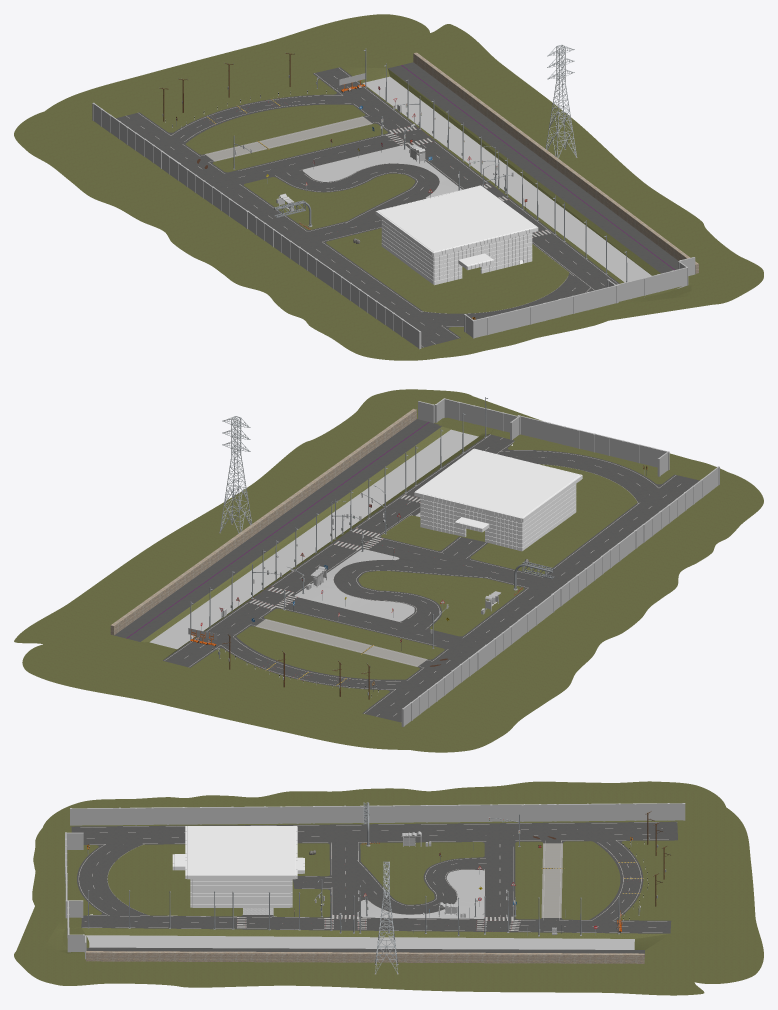
File: TiHAN_Test_BED_Final.fbx
3 views of the same model, one above another, from view 1: azimuth 30°, elevation 25°; view 2: azimuth 150°, elevation 25°; view 3: azimuth 270°, elevation 25° (orthographic). The views are drawn at different scales.
Visible parts, largest first — view 1: Terrain_Ground_Layer0Node, Roads_Road_Layer0Node, pCube1_PropNode, Prop_PropNode, Roads_Marking_Layer0Node, ElectricalTower02_100ft_Mesh_PropNode; view 2: Terrain_Ground_Layer0Node, Roads_Road_Layer0Node, pCube1_PropNode, Prop_PropNode, Roads_Marking_Layer0Node, ElectricalTower02_100ft_Mesh_PropNode; view 3: Terrain_Ground_Layer0Node, Roads_Road_Layer0Node, pCube1_PropNode, Prop_PropNode, Roads_Marking_Layer0Node, ElectricalTower02_100ft_Mesh_PropNode.
Part boxes in pixels (<box>): Terrain_Ground_Layer0Node: <box>14,14,763,360</box>; Roads_Road_Layer0Node: <box>116,62,678,347</box>; pCube1_PropNode: <box>375,185,538,285</box>; Prop_PropNode: <box>413,52,698,273</box>; Roads_Marking_Layer0Node: <box>126,65,674,347</box>; ElectricalTower02_100ft_Mesh_PropNode: <box>545,44,577,158</box>; Terrain_Ground_Layer0Node: <box>14,389,763,752</box>; Roads_Road_Layer0Node: <box>114,419,699,722</box>; pCube1_PropNode: <box>414,448,582,551</box>; Prop_PropNode: <box>110,409,416,635</box>; Roads_Marking_Layer0Node: <box>126,422,680,716</box>; ElectricalTower02_100ft_Mesh_PropNode: <box>219,416,252,533</box>; Terrain_Ground_Layer0Node: <box>14,781,763,995</box>; Roads_Road_Layer0Node: <box>71,821,677,956</box>; pCube1_PropNode: <box>172,826,304,907</box>; Prop_PropNode: <box>86,951,644,963</box>; Roads_Marking_Layer0Node: <box>78,822,668,932</box>; ElectricalTower02_100ft_Mesh_PropNode: <box>374,861,398,974</box>.
Size of the model in its own units: 132 by 195 by 32.27.
